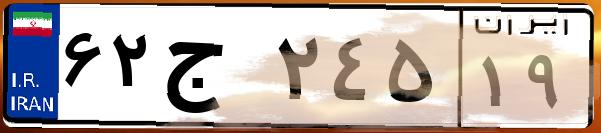1: (475, 38, 525, 113)
2: (270, 28, 330, 110), (110, 28, 158, 98)
4: (330, 28, 385, 110)
5: (385, 28, 445, 110)
6: (57, 26, 110, 100)
9: (525, 38, 570, 115)
ج: (158, 20, 270, 120)
